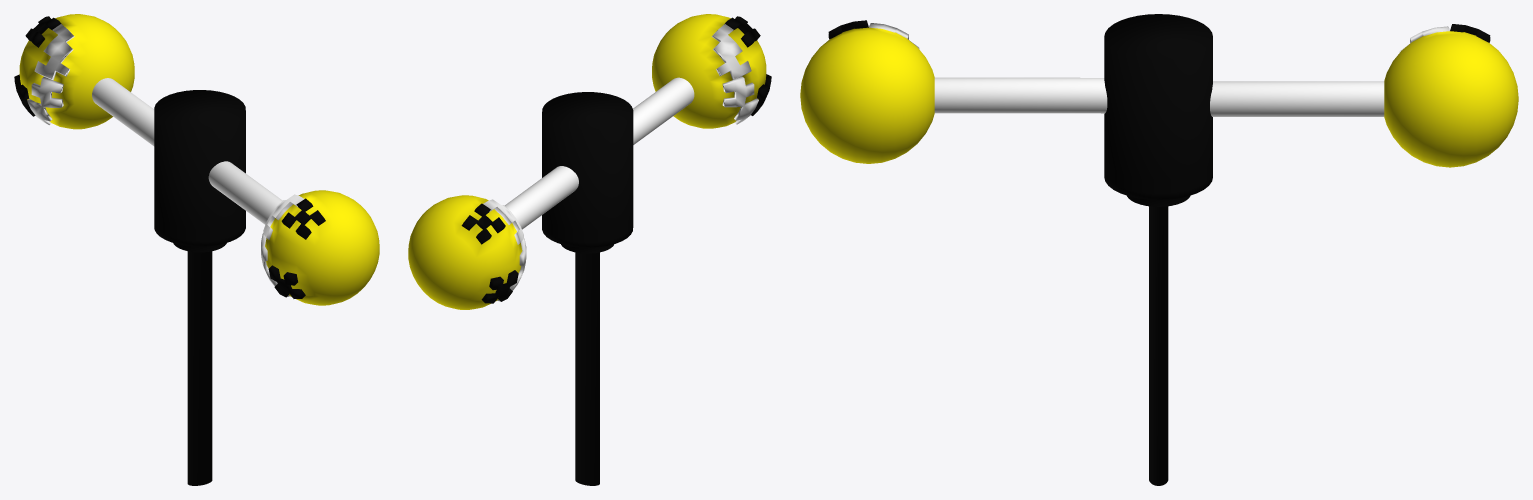
File: moving creeppyy face new.fbx
3 views of the same model, side by side, from view 1: azimuth 30°, elevation 25°; view 2: azimuth 150°, elevation 25°; view 3: azimuth 270°, elevation 25° (orthographic). The views are drawn at different scales.
Visible parts, largest first — view 1: Cylinder.001, Sphere.001, Sphere, Cylinder.002, Cylinder; view 2: Cylinder.001, Sphere, Sphere.001, Cylinder, Cylinder.002; view 3: Cylinder.001, Sphere, Sphere.001, Cylinder.002, Cylinder.
Boxes of the visible parts, x1,y1,x2,y2 form: Cylinder.001: [154, 90, 245, 485]; Sphere.001: [261, 190, 379, 305]; Sphere: [14, 14, 134, 129]; Cylinder.002: [208, 161, 282, 224]; Cylinder: [92, 78, 154, 146]; Cylinder.001: [542, 92, 633, 485]; Sphere: [408, 195, 526, 309]; Sphere.001: [652, 14, 771, 128]; Cylinder: [505, 166, 578, 229]; Cylinder.002: [633, 77, 694, 144]; Cylinder.001: [1104, 14, 1212, 485]; Sphere: [1384, 24, 1518, 167]; Sphere.001: [800, 20, 934, 163]; Cylinder.002: [934, 77, 1107, 113]; Cylinder: [1210, 81, 1384, 116].
Size of the model in its own units: 208 by 721 by 1047.
